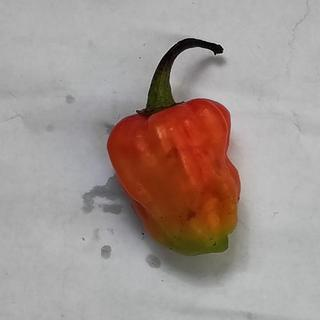Grade-A: (104, 98, 248, 258)
